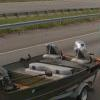Boat: (2, 44, 98, 100)
